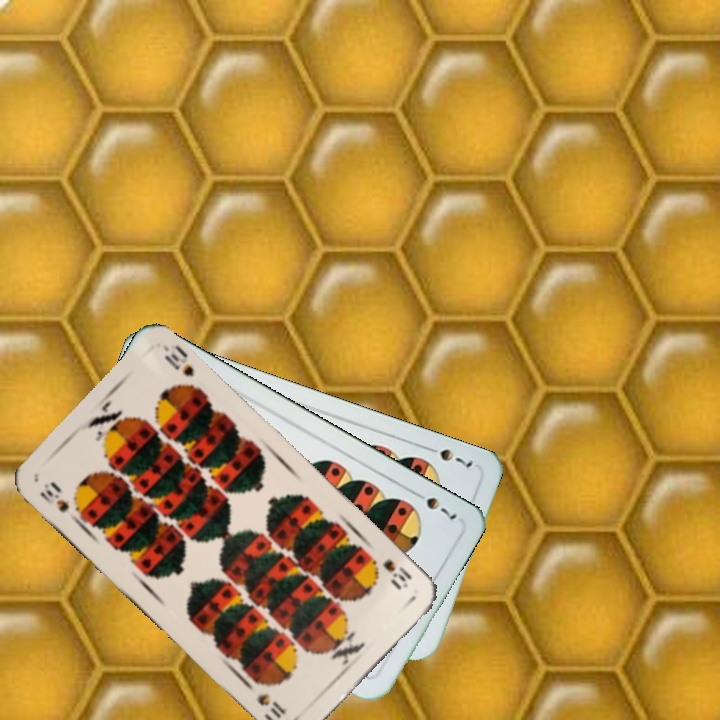S10: (378, 555, 415, 592), (35, 479, 72, 515)
S7: (408, 486, 460, 522), (421, 442, 476, 471)
